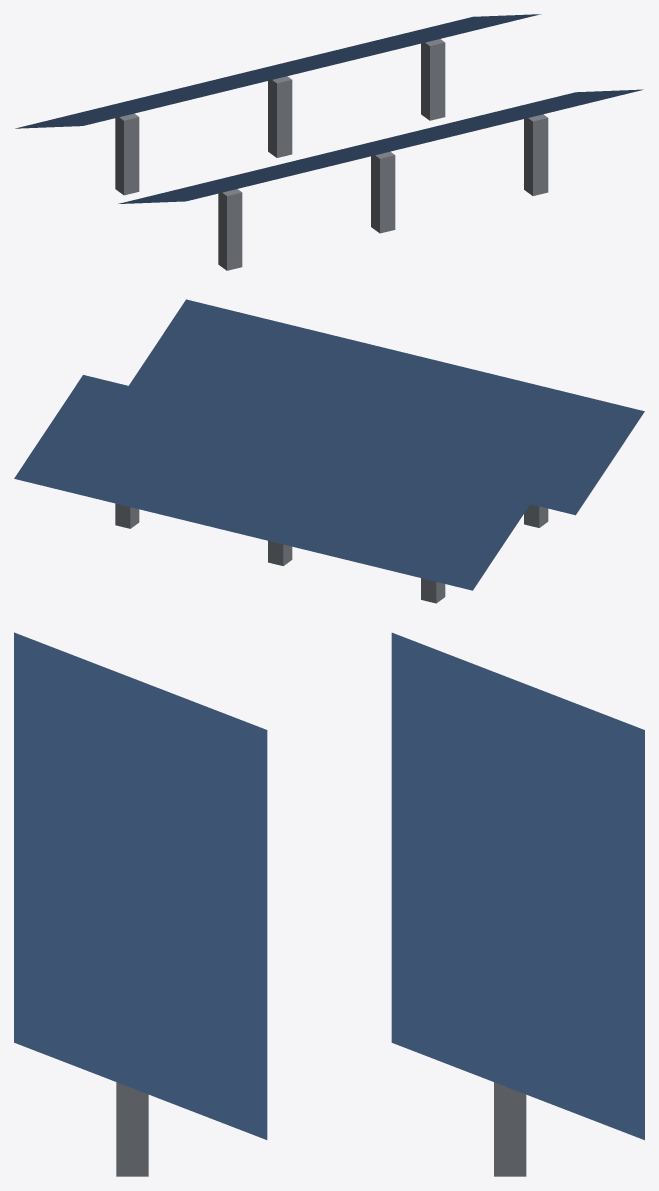
File: solar_array.glb
3 views of the same model, one above another, from view 1: azimuth 30°, elevation 25°; view 2: azimuth 150°, elevation 25°; view 3: azimuth 270°, elevation 25° (orthographic). The views are drawn at different scales.
Visible parts, largest first — view 1: solar_array_mesh; view 2: solar_array_mesh; view 3: solar_array_mesh.
Boxes of the visible parts, x1,y1,x2,y2 form: solar_array_mesh: [15, 14, 643, 270]; solar_array_mesh: [14, 299, 644, 603]; solar_array_mesh: [14, 632, 644, 1176].
Size of the model in its own units: 0.18 by 0.04 by 0.117.
